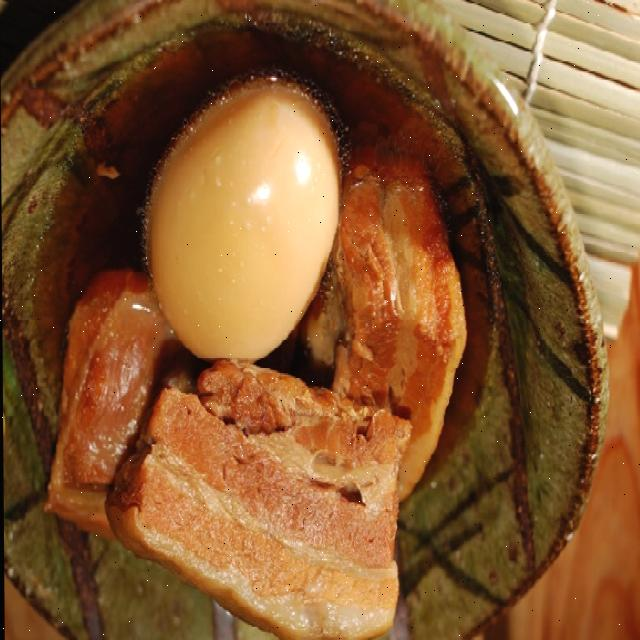猪肉菜式: (0, 0, 607, 640)
